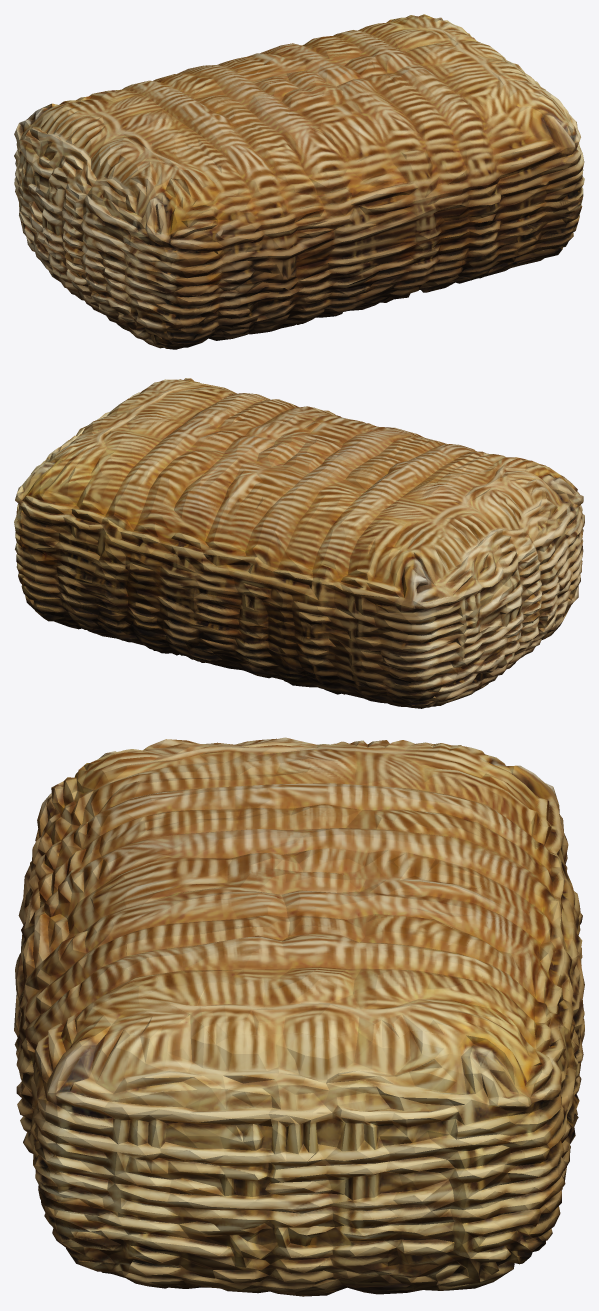
The model's file is woven-wicker-harmonica-case-3d.jpeg.glb.
3 renders of one model, top to bottom at view 1: azimuth 30°, elevation 25°; view 2: azimuth 150°, elevation 25°; view 3: azimuth 270°, elevation 25°, orthographic. The views are drawn at different scales.
Parts seen in each view (by area): view 1: world; view 2: world; view 3: world.
Part boxes in pixels (x1,y1,x2,y2): world: [14, 14, 584, 349]; world: [14, 378, 584, 708]; world: [14, 737, 584, 1296].
Size of the model in its own units: 0.9999 by 0.3803 by 0.6652.
Materials: 1 (1 with a texture image).
